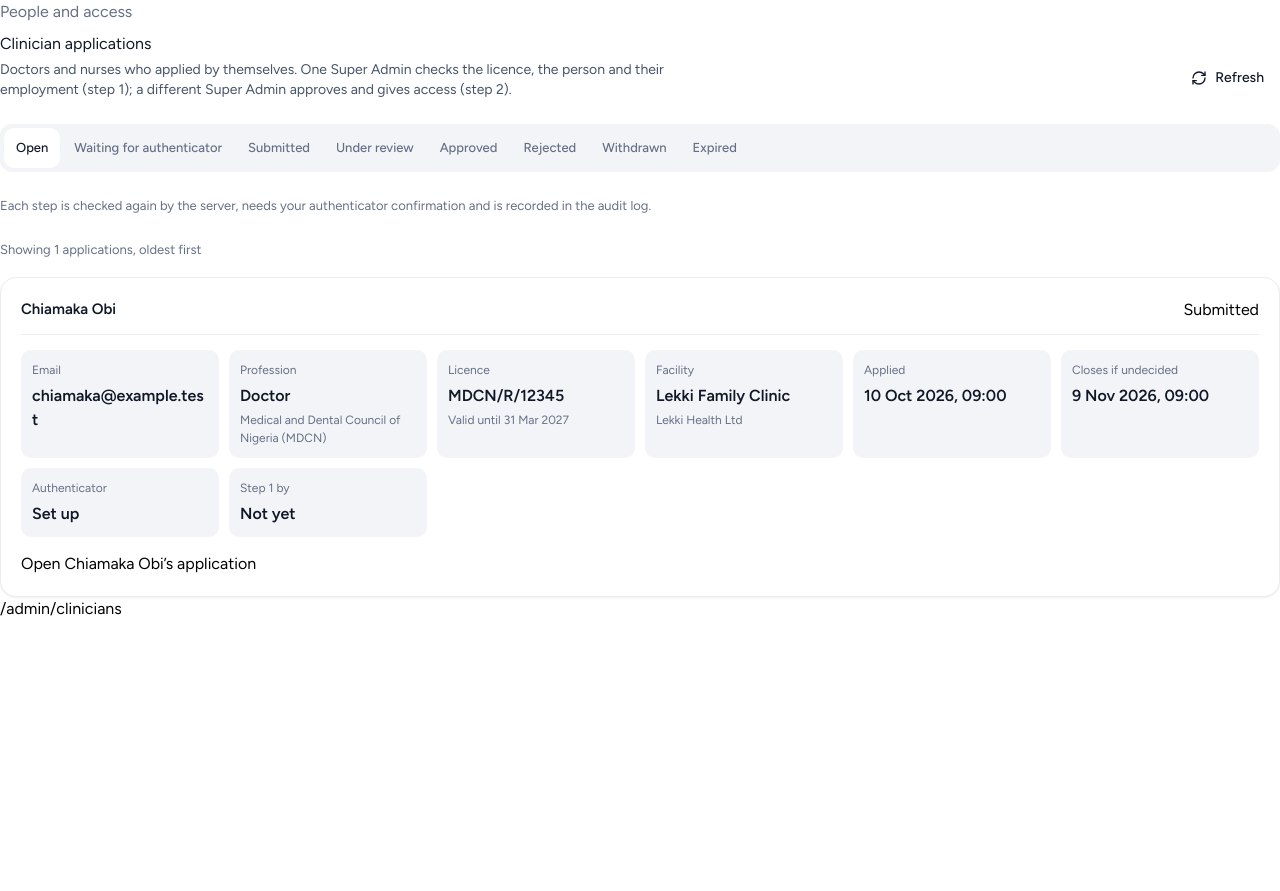
Test: clinician verification queue (A1) › opens an application from the list
This screenshot has width=1280, height=891.
Click the link "Open Chiamaka Obi’s application": click(43, 564) [21,554,256,573]
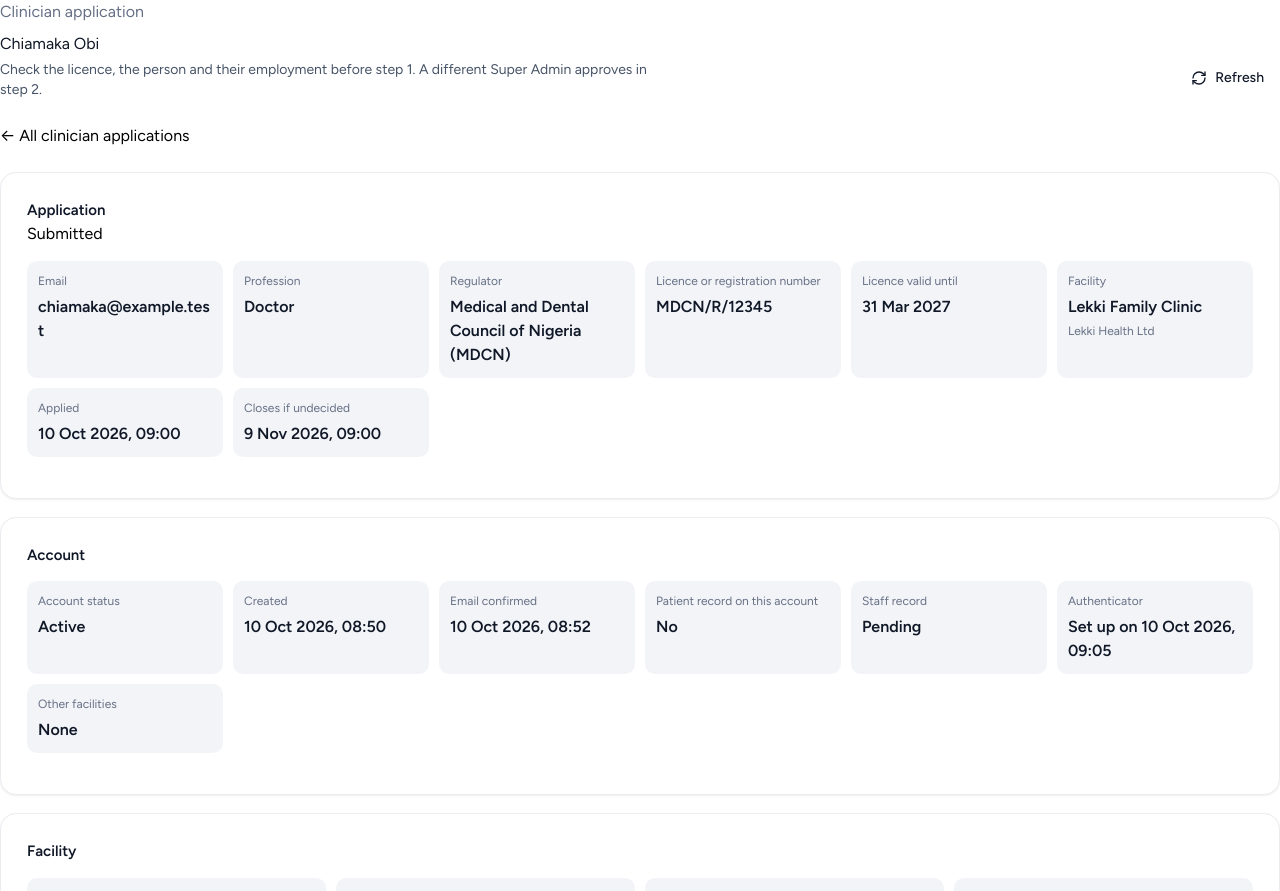
Result: the heading "Chiamaka Obi" is shown at [0,32,99,56]
